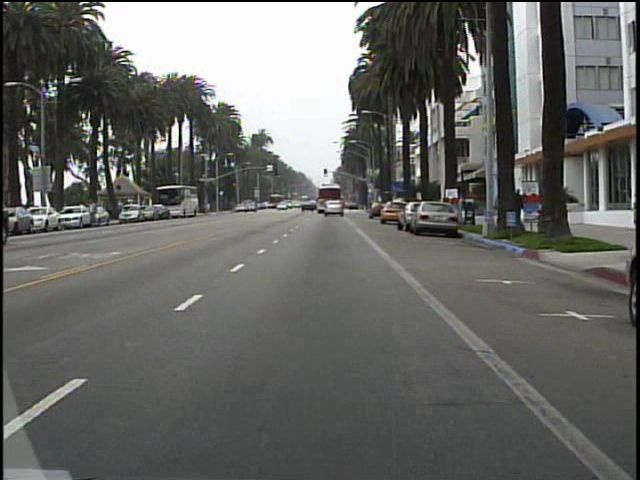person: (512, 182, 530, 231)
